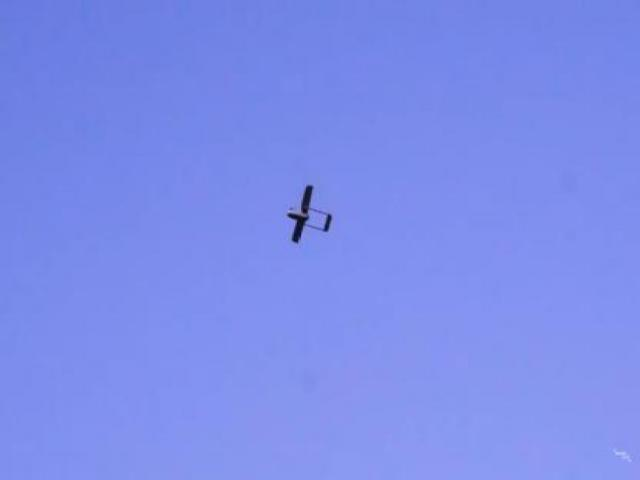uav: (285, 182, 332, 247)
